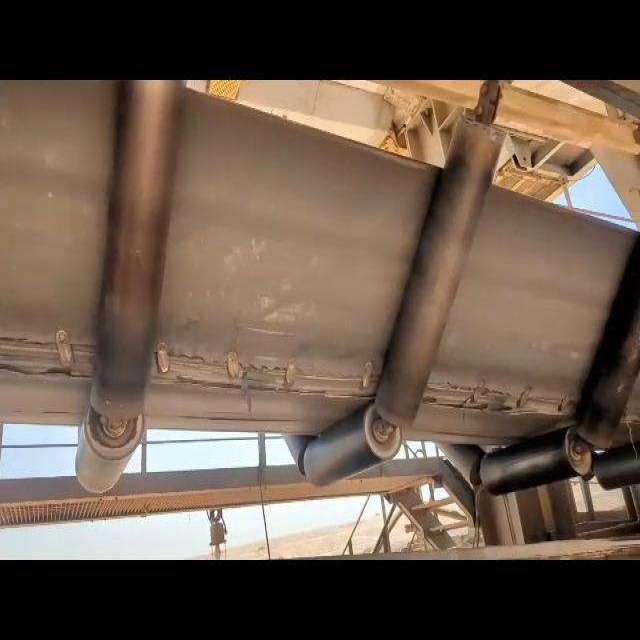Tear: (146, 335, 384, 410), (418, 372, 584, 423), (0, 326, 107, 384)
